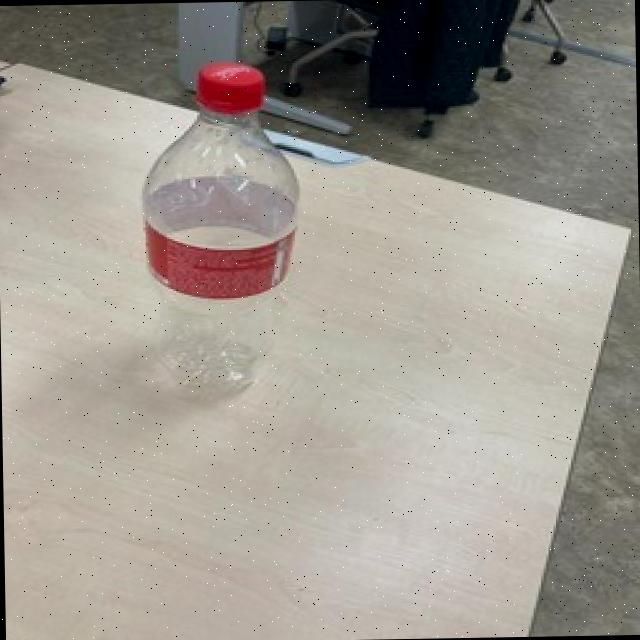bottle: (134, 53, 308, 414)
cap: (189, 61, 268, 119)
label: (120, 193, 333, 297)
